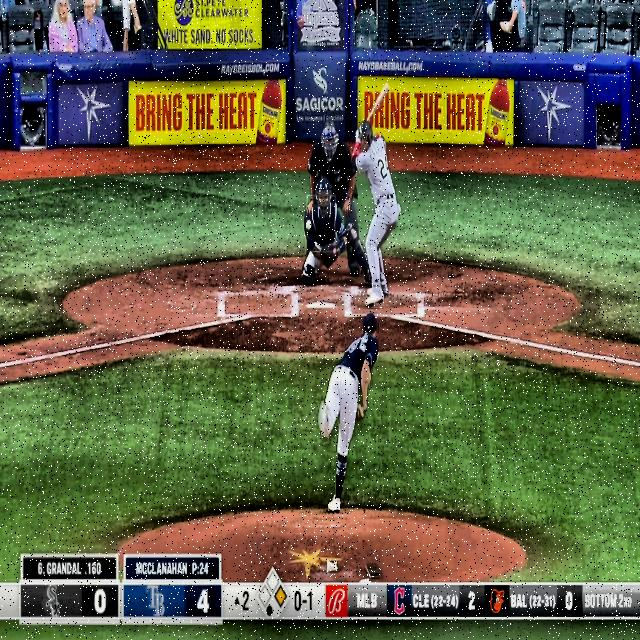baseball: (306, 220, 312, 232)
